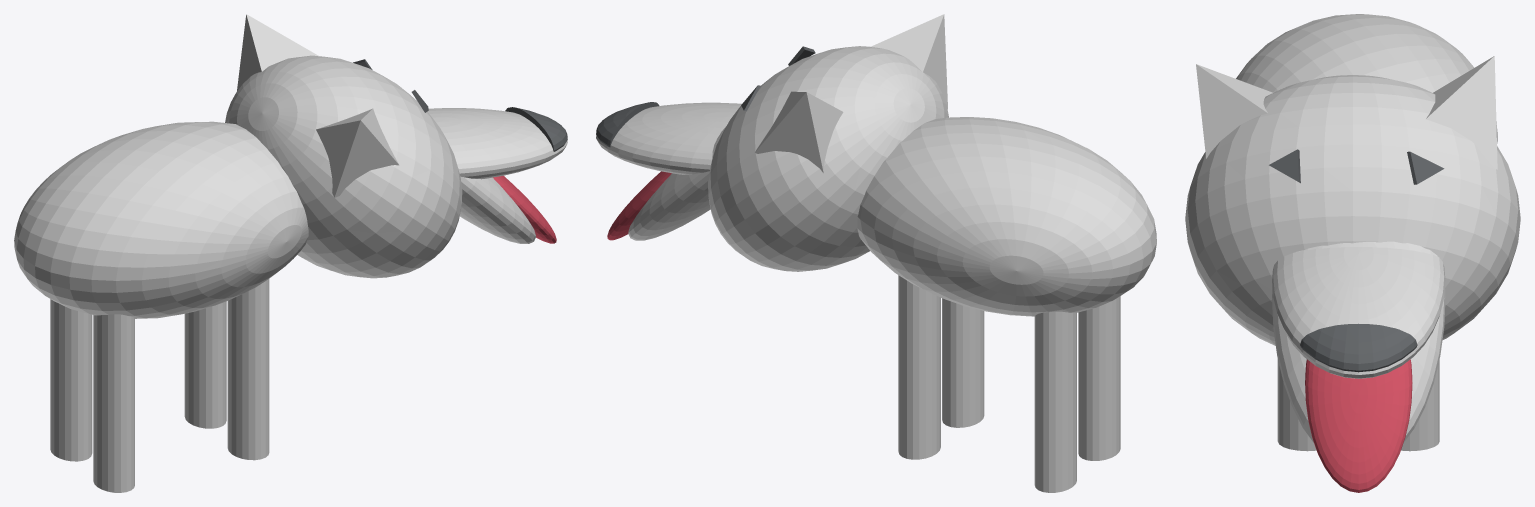
3 renders of one model, left to right at view 1: azimuth 30°, elevation 25°; view 2: azimuth 150°, elevation 25°; view 3: azimuth 270°, elevation 25°, orthographic. The views are drawn at different scales.
Visible parts, largest first — view 1: Mesh_Mesh_head_geo.001_lambert2SG.001; view 2: Mesh_Mesh_head_geo.001_lambert2SG.001; view 3: Mesh_Mesh_head_geo.001_lambert2SG.001.
Boxes of the visible parts, x1,y1,x2,y2 form: Mesh_Mesh_head_geo.001_lambert2SG.001: (14,14,567,492); Mesh_Mesh_head_geo.001_lambert2SG.001: (596,14,1156,492); Mesh_Mesh_head_geo.001_lambert2SG.001: (1185,14,1520,492).
Size of the model in its own units: 64 by 41 by 29.
